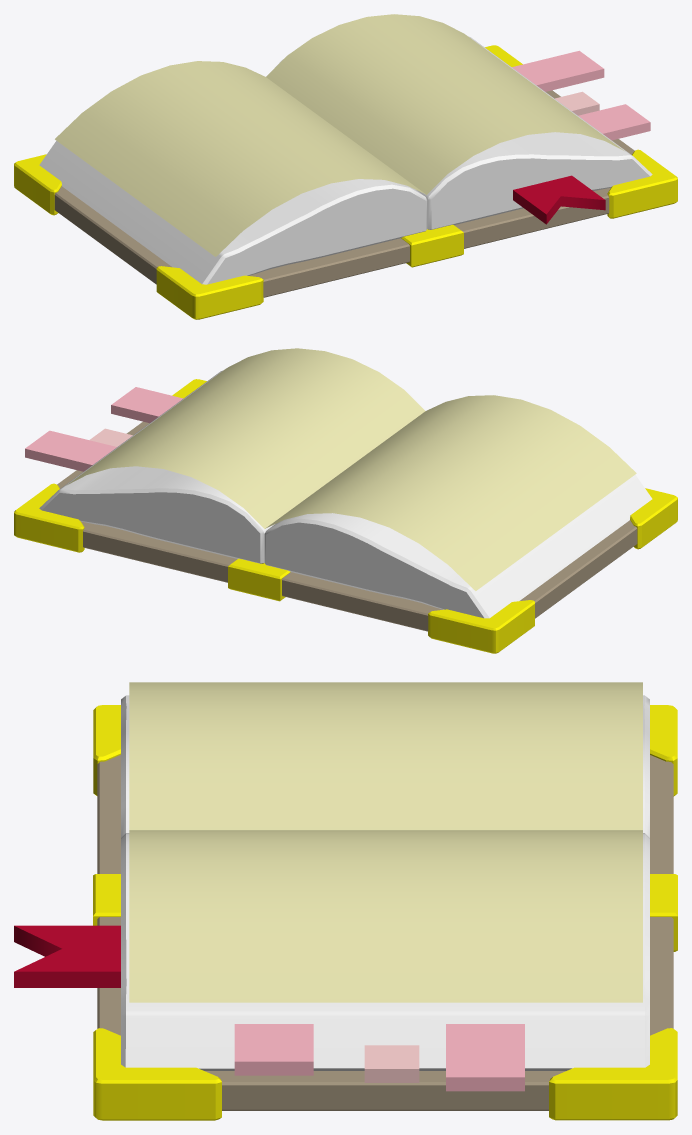
The model's file is Dairy_ani.fbx.
3 views of the same model, one above another, from view 1: azimuth 30°, elevation 25°; view 2: azimuth 150°, elevation 25°; view 3: azimuth 270°, elevation 25° (orthographic). The views are drawn at different scales.
Parts seen in each view (by area): view 1: pCube7, Plane.002, Plane; view 2: pCube7, Plane.002, Plane; view 3: pCube7, Plane, Plane.002.
Part boxes in pixels (x1,y1,x2,y2): pCube7: [14, 36, 677, 319]; Plane.002: [55, 61, 425, 256]; Plane: [266, 14, 623, 194]; pCube7: [14, 370, 677, 653]; Plane.002: [265, 395, 636, 590]; Plane: [66, 348, 425, 528]; pCube7: [14, 695, 677, 1120]; Plane: [129, 830, 642, 1002]; Plane.002: [129, 682, 642, 830].
Size of the model in its own units: 41.09 by 7.13 by 28.51.
